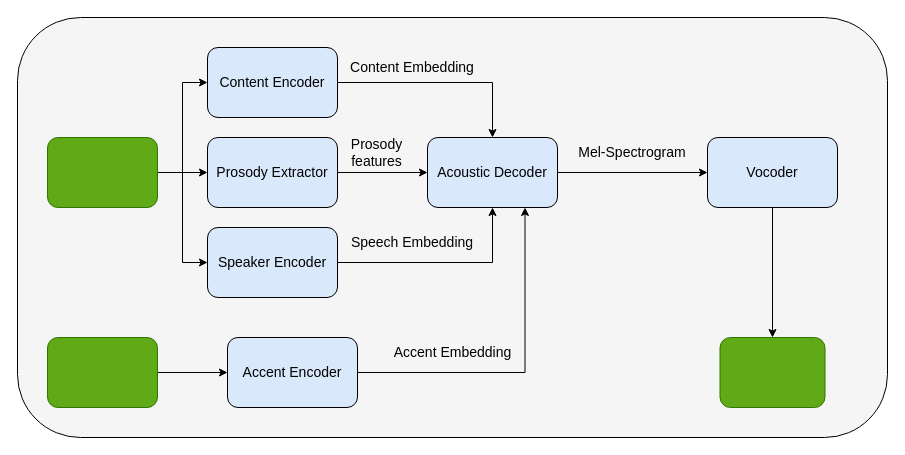
This 905x455 diagram has some shape labels left out. The shapes that lost their labels are listed below. From the top down, each one's centre as x and y in pixels, then its label:
the point at 102,172: Source Audio (.wav)
the point at 102,372: Target Accent Audio (.wav)
the point at 772,372: Output Waveform
